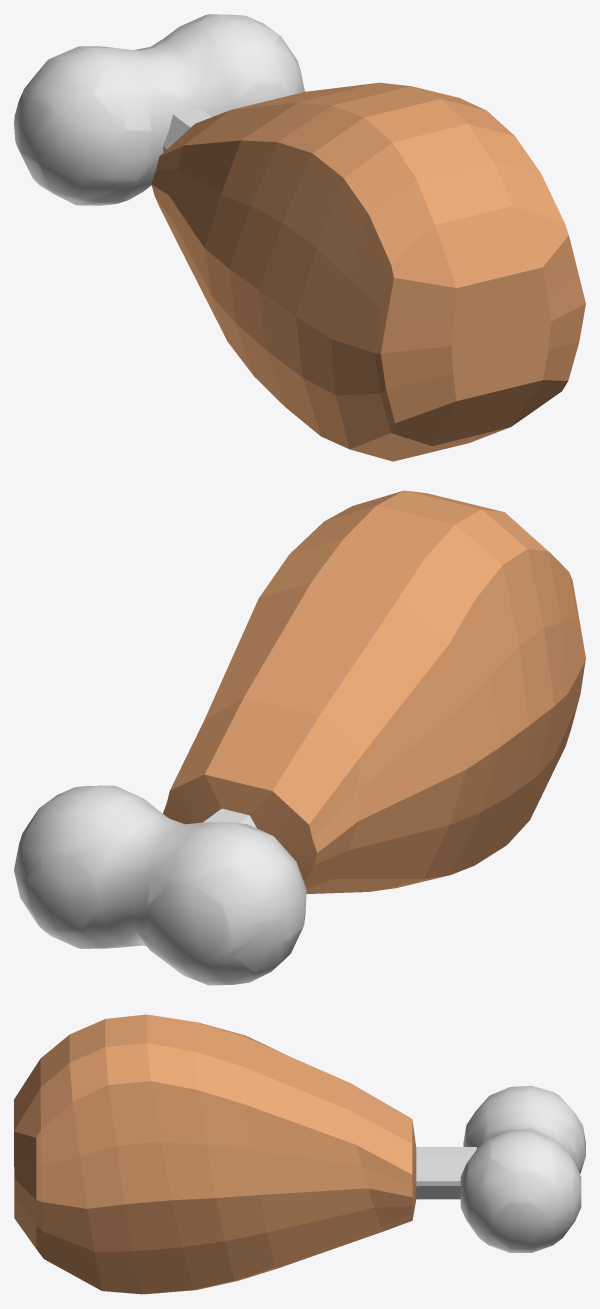
The model's file is chicken leg.fbx.
3 views of the same model, one above another, from view 1: azimuth 30°, elevation 25°; view 2: azimuth 150°, elevation 25°; view 3: azimuth 270°, elevation 25° (orthographic). The views are drawn at different scales.
Visible parts, largest first — view 1: Cylinder; view 2: Cylinder; view 3: Cylinder.
Part boxes in pixels (x1,y1,x2,y2): Cylinder: [14, 14, 585, 461]; Cylinder: [14, 490, 585, 985]; Cylinder: [14, 1014, 585, 1294].
Bounding box in the file's own units: 360 × 426 × 878.
